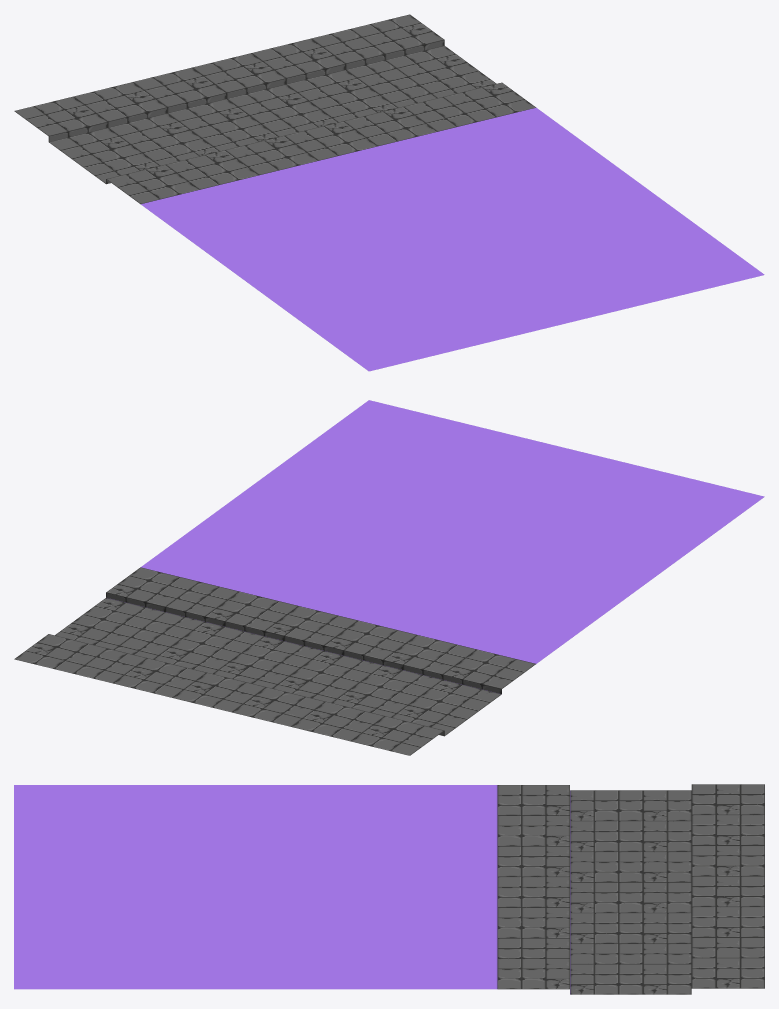
The model's file is Rua1.fbx.
3 renders of one model, top to bottom at view 1: azimuth 30°, elevation 25°; view 2: azimuth 150°, elevation 25°; view 3: azimuth 270°, elevation 25°, orthographic. The views are drawn at different scales.
Parts seen in each view (by area): view 1: plane; view 2: plane; view 3: plane.
Boxes of the visible parts, left/top/right/bottom form: plane: left=14, top=14, right=764, bottom=371; plane: left=14, top=400, right=764, bottom=755; plane: left=14, top=784, right=764, bottom=994.
Bounding box in the file's own units: 2000 × 28.12 × 3106.
1 material, 1 textured.
